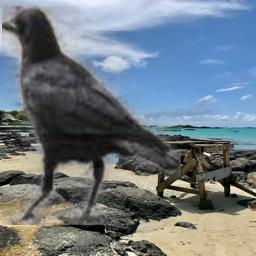Crow: (2, 6, 181, 225)
